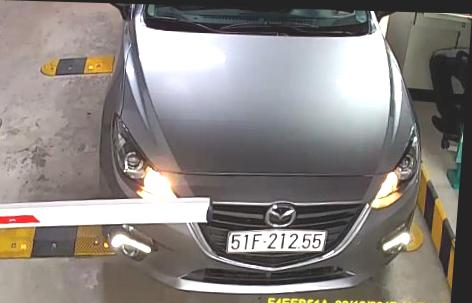License_Plate: (225, 227, 328, 255)
